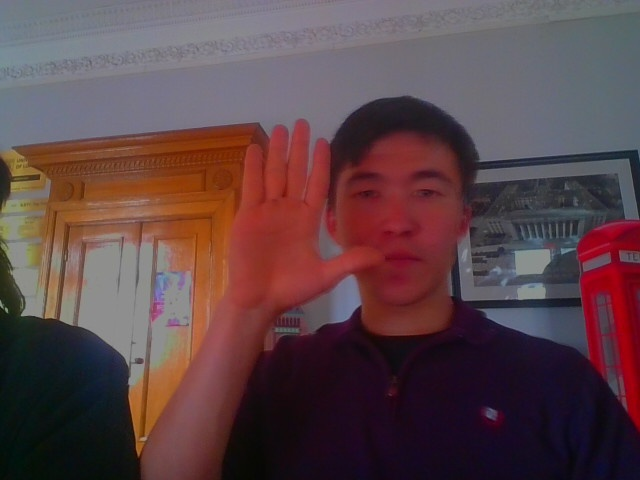Hello: (228, 101, 386, 325)
